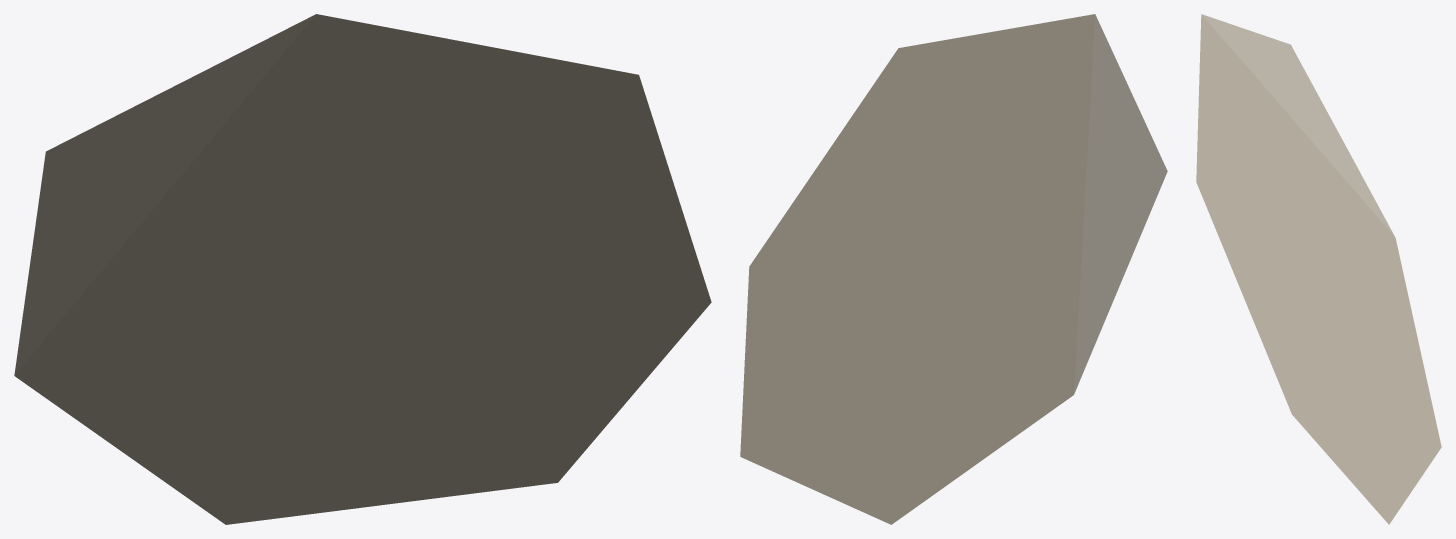
Rendered from SM_MS3_Feed_Eco_12_0.fbx.
The picture shows the model from 3 angles, left to right: view 1: azimuth 30°, elevation 25°; view 2: azimuth 150°, elevation 25°; view 3: azimuth 270°, elevation 25°; orthographic projection. The views are drawn at different scales.
Visible parts, largest first — view 1: SM_MS3_Feed_Eco_12_0; view 2: SM_MS3_Feed_Eco_12_0; view 3: SM_MS3_Feed_Eco_12_0.
Boxes of the visible parts, bbox=[...] form: SM_MS3_Feed_Eco_12_0: bbox=[14, 14, 711, 524]; SM_MS3_Feed_Eco_12_0: bbox=[740, 14, 1167, 524]; SM_MS3_Feed_Eco_12_0: bbox=[1196, 14, 1441, 524].
Size of the model in its own units: 1.97 by 1.09 by 1.95.
